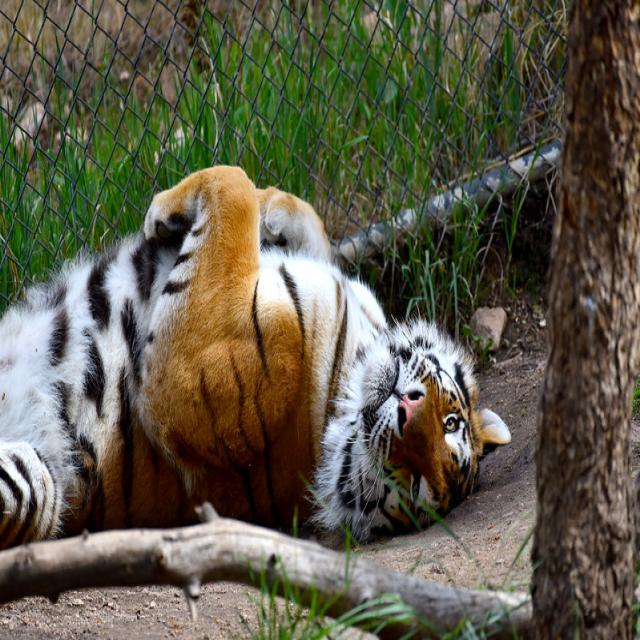Tiger: (0, 163, 511, 552)
